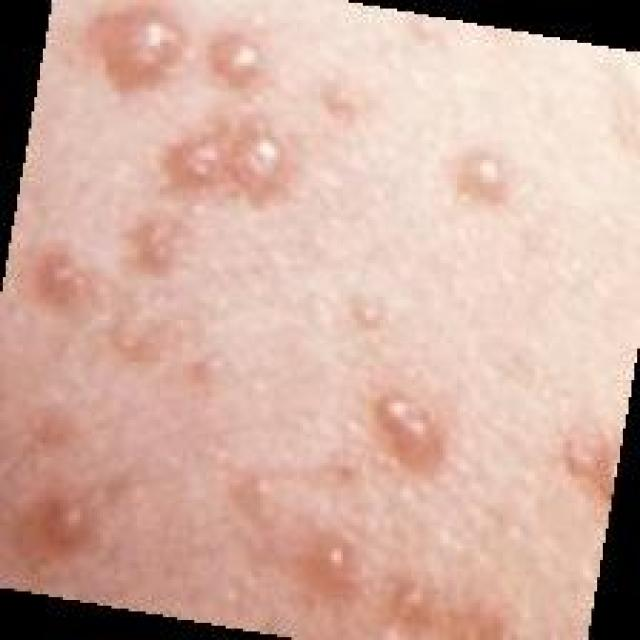others: (50, 0, 609, 640)
